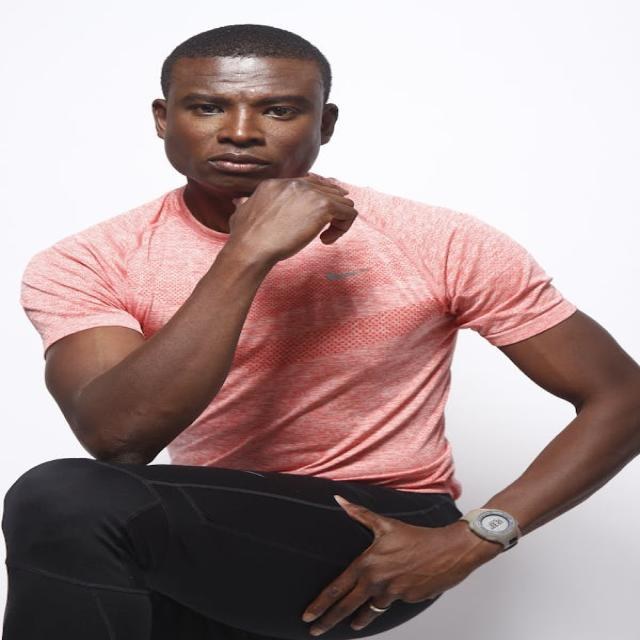Real human 2: (30, 10, 640, 640)
